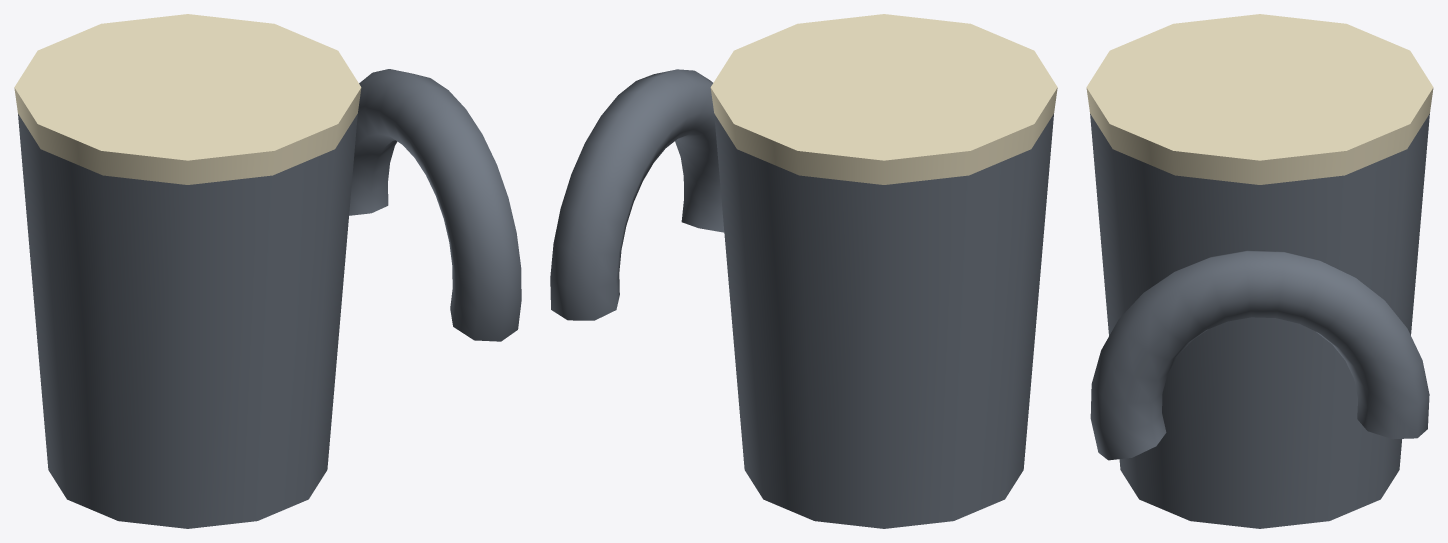
The model's file is glass.glb.
The picture shows the model from 3 angles, left to right: view 1: azimuth 30°, elevation 25°; view 2: azimuth 150°, elevation 25°; view 3: azimuth 270°, elevation 25°; orthographic projection.
Size of the model in its own units: 0.267 by 0.236 by 0.194.
